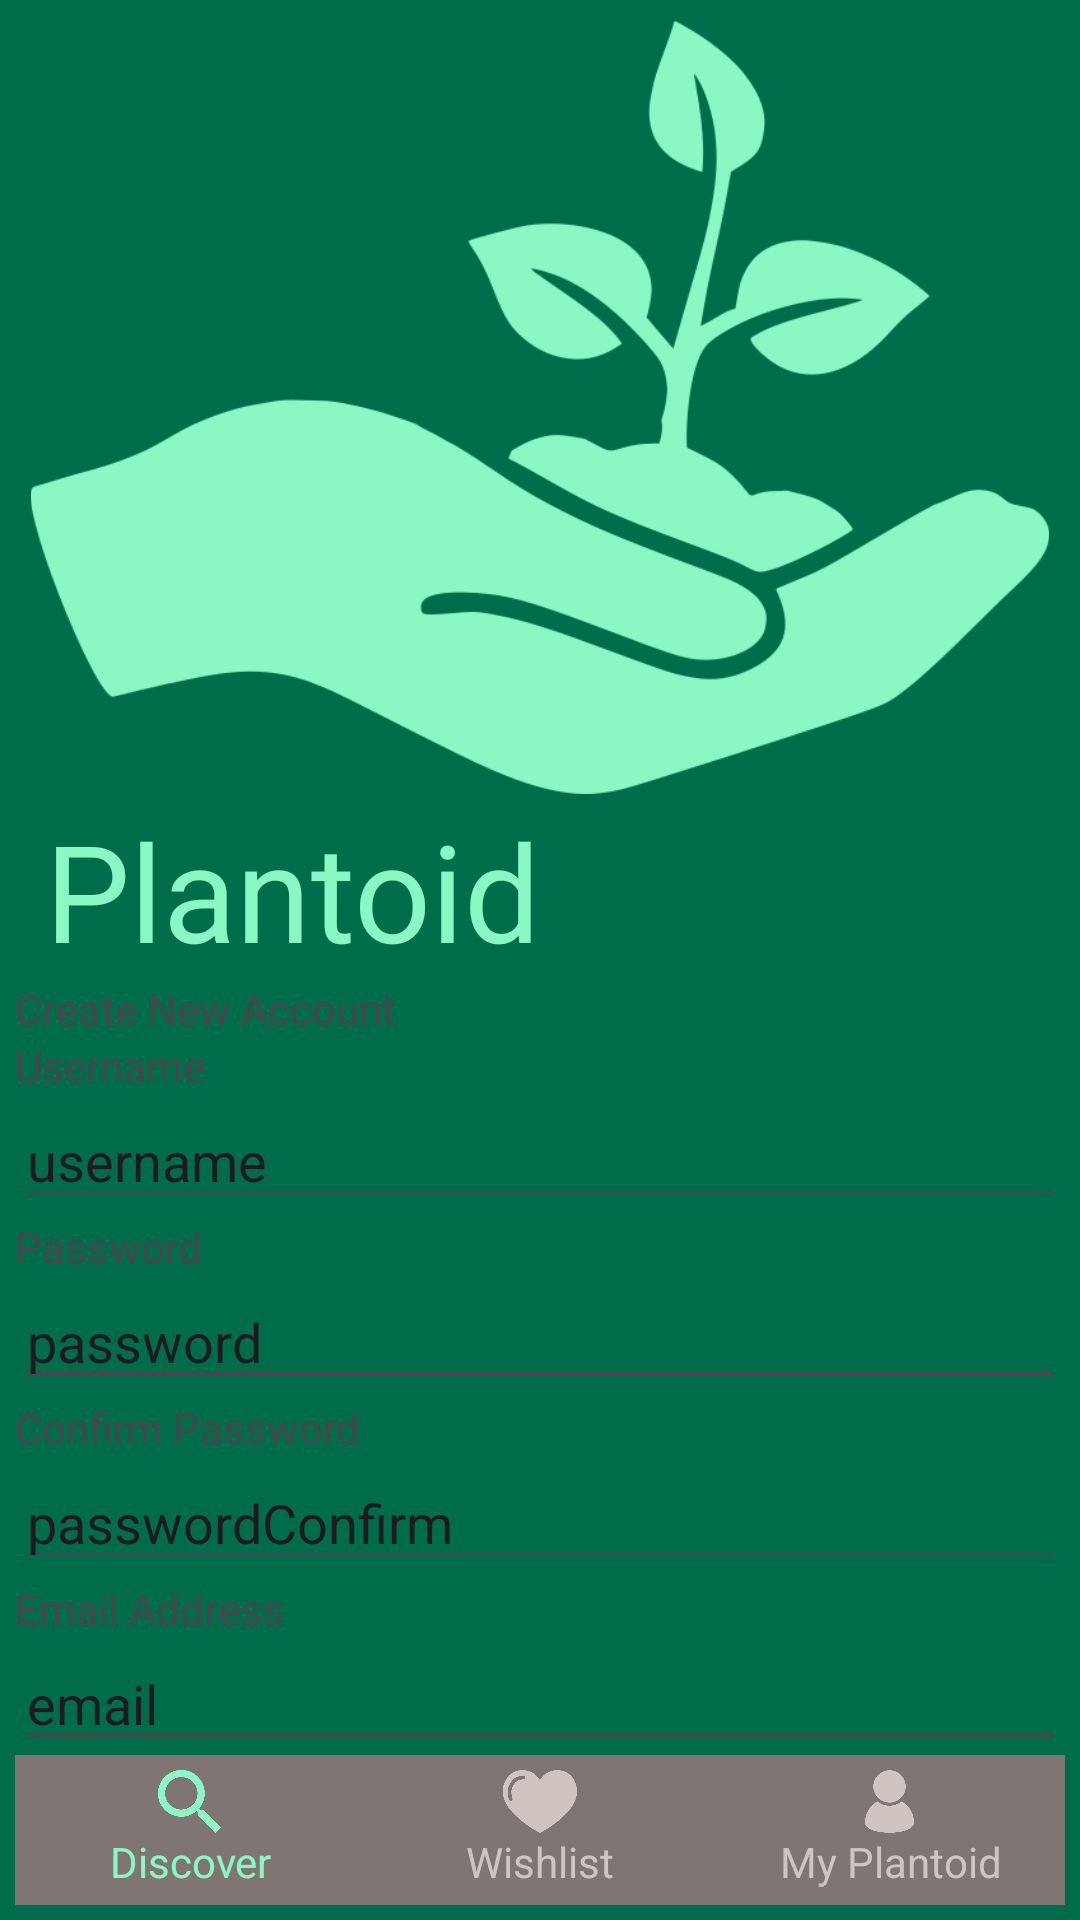

Icon bounding boxes for this 1080 x 1920 phone screenshot, format (x1, y1, x2, y2):
profile: (865, 1770, 914, 1833)
